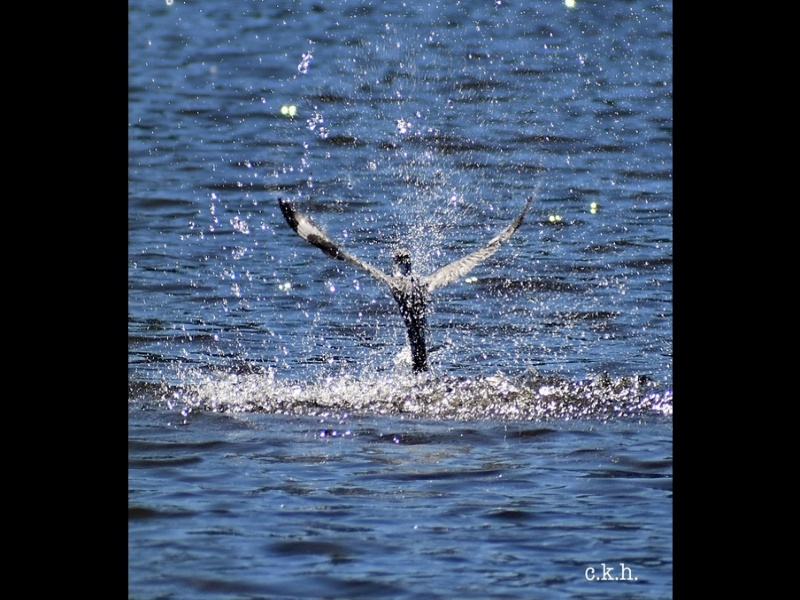kingfisher: (272, 182, 542, 386)
